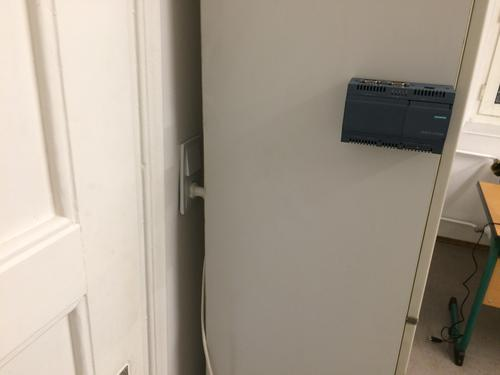iot2000: (340, 76, 456, 155)
